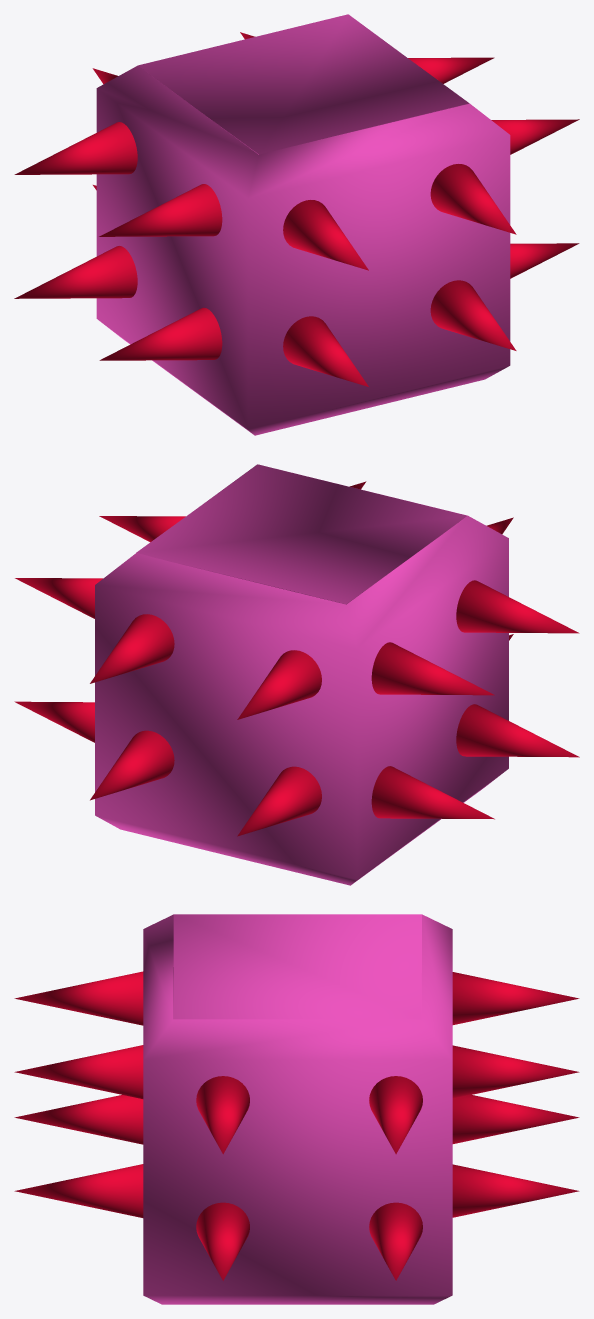
File: obs-1.fbx
3 views of the same model, one above another, from view 1: azimuth 30°, elevation 25°; view 2: azimuth 150°, elevation 25°; view 3: azimuth 270°, elevation 25° (orthographic). The views are drawn at different scales.
Visible parts, largest first — view 1: Cone.013; view 2: Cone.013; view 3: Cone.013.
Boxes of the visible parts, bbox=[...] form: Cone.013: bbox=[14, 14, 579, 435]; Cone.013: bbox=[14, 464, 579, 885]; Cone.013: bbox=[14, 914, 579, 1304].
Size of the model in its own units: 367 by 200 by 366.
